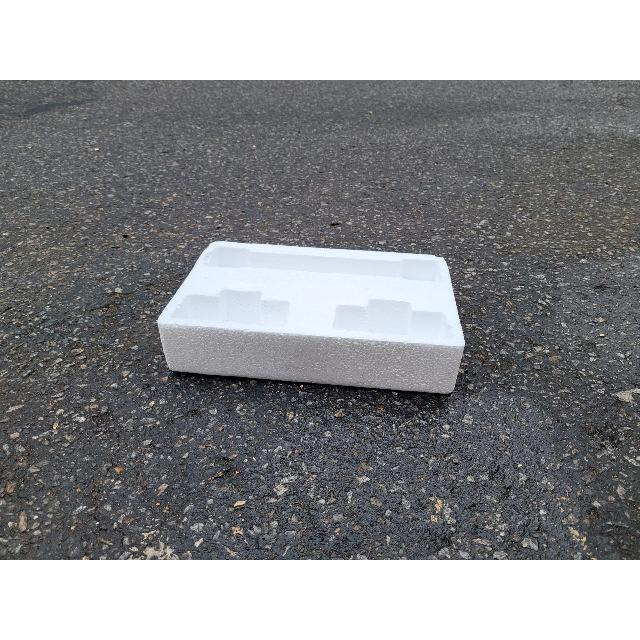Plastico descartable: (155, 241, 466, 397)
